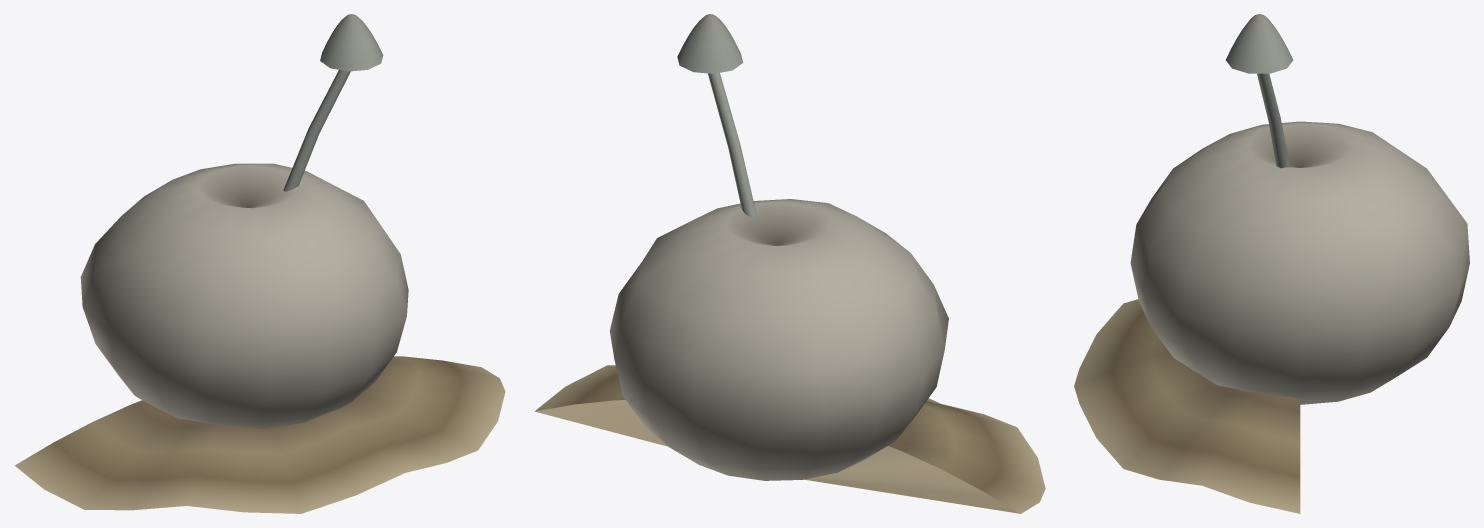
Rendered from mushrooms.glb.
3 renders of one model, left to right at view 1: azimuth 30°, elevation 25°; view 2: azimuth 150°, elevation 25°; view 3: azimuth 270°, elevation 25°, orthographic. The views are drawn at different scales.
Parts seen in each view (by area): view 1: puffball, bracket, stalk; view 2: puffball, bracket, stalk; view 3: puffball, bracket, stalk.
Part boxes in pixels (x1,y1,x2,y2): puffball: (80,163,408,428); bracket: (14,356,505,513); stalk: (283,14,383,191); puffball: (609,199,948,480); bracket: (534,365,1045,513); stalk: (677,14,756,217); puffball: (1130,121,1469,404); bracket: (1074,299,1300,513); stalk: (1226,14,1293,168).
Size of the model in its own units: 0.5 by 0.4175 by 0.35.
